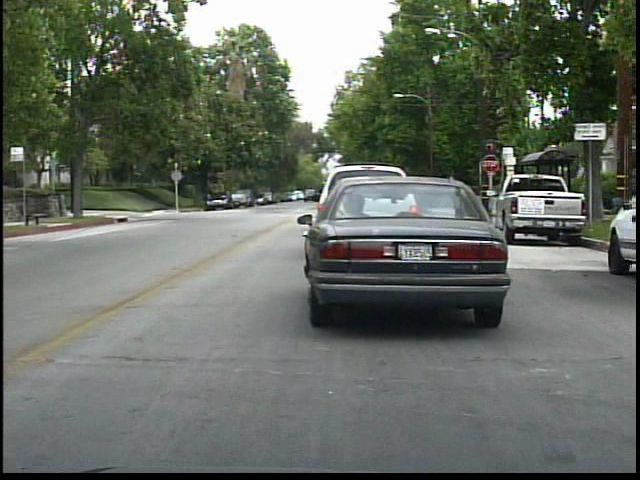person: (219, 180, 234, 206)
